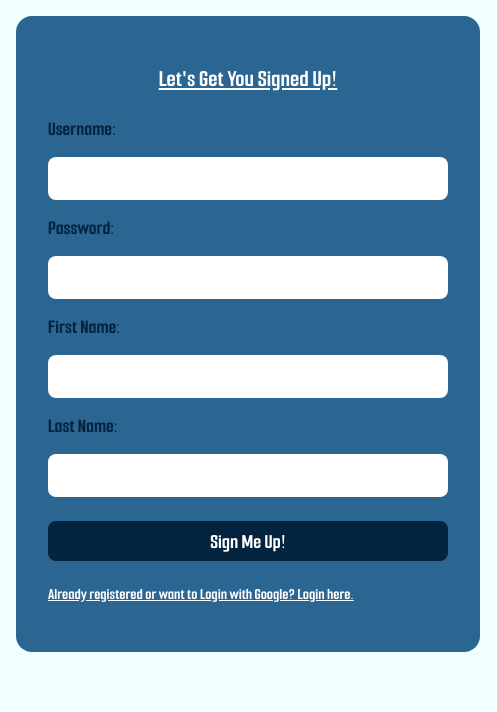
Test: handleSubmit › for username taken renders specific error message
Type "usernameMe" into the field labelled "Username:" at (248, 178), box left=48, top=157, right=448, bottom=200
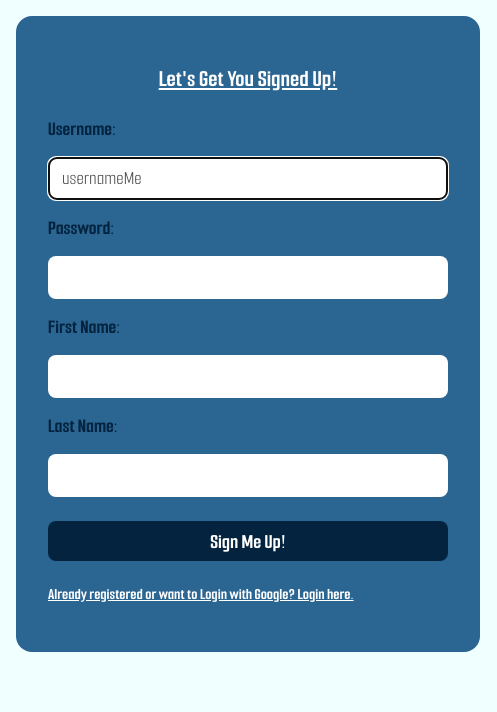
Type "Password123!" into the password field labelled "Password:" at (248, 278), box left=48, top=256, right=448, bottom=299
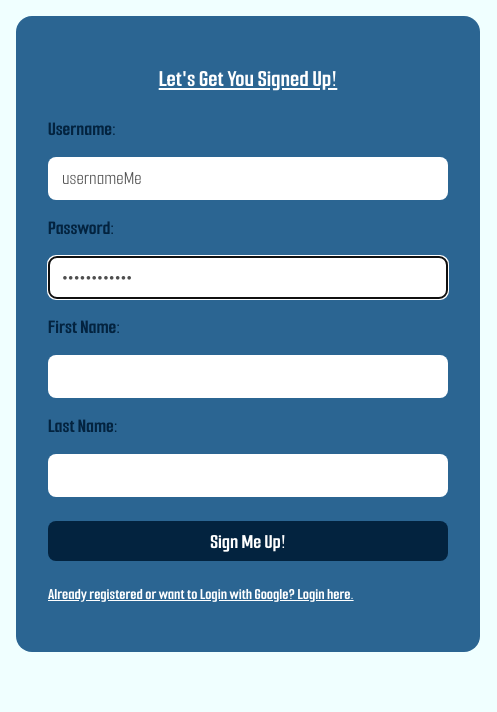
Type "Lottie" into the field labelled "First Name:" at (248, 376), box left=48, top=355, right=448, bottom=398
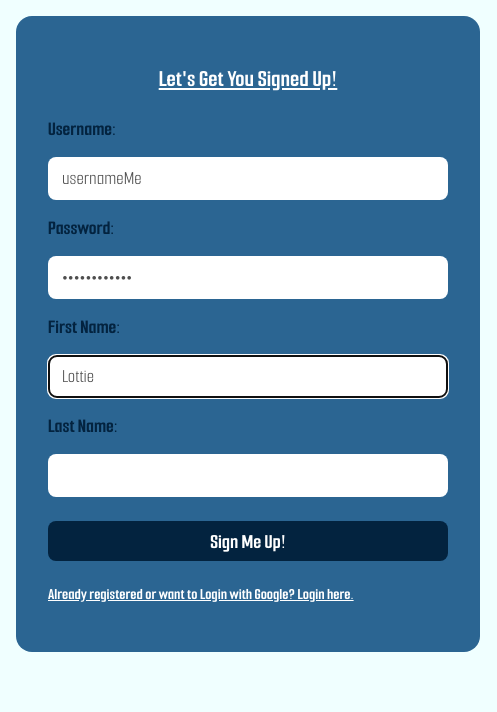
Type "Orton" into the field labelled "Last Name:" at (248, 476), box left=48, top=454, right=448, bottom=497
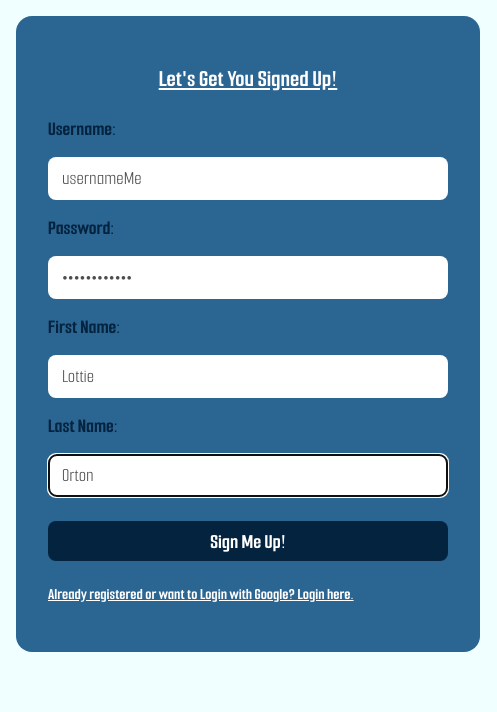
Click the button "Sign Me Up!" at (248, 541), box left=48, top=521, right=448, bottom=561
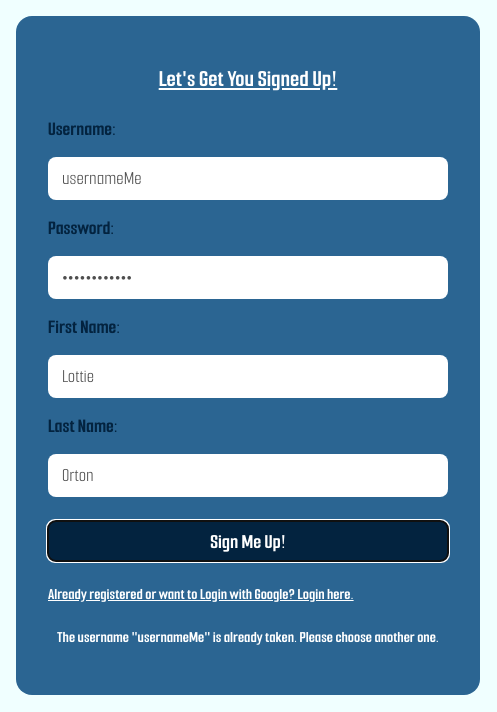
Check: the text "The username \"usernameMe\" is already taken. Please choose another one." is shown, box left=57, top=628, right=439, bottom=647
